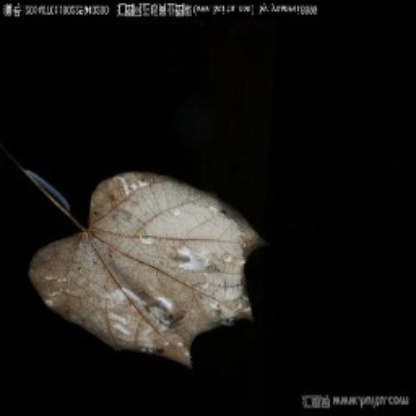leaf: (23, 154, 268, 371)
